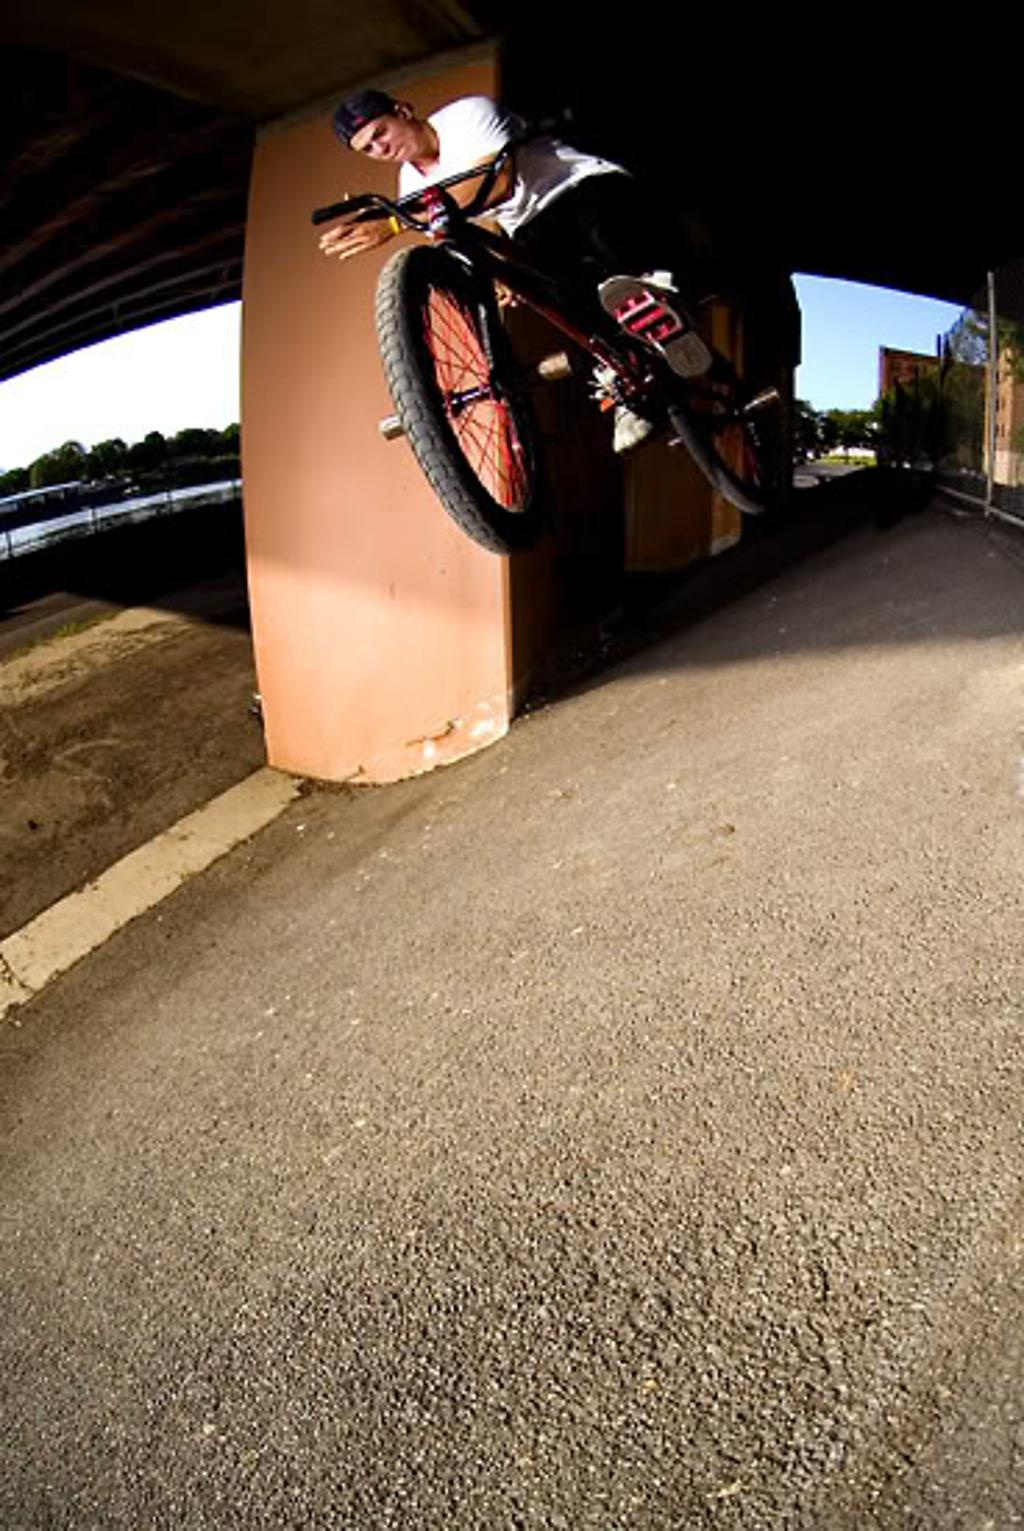face: (350, 116, 420, 162)
